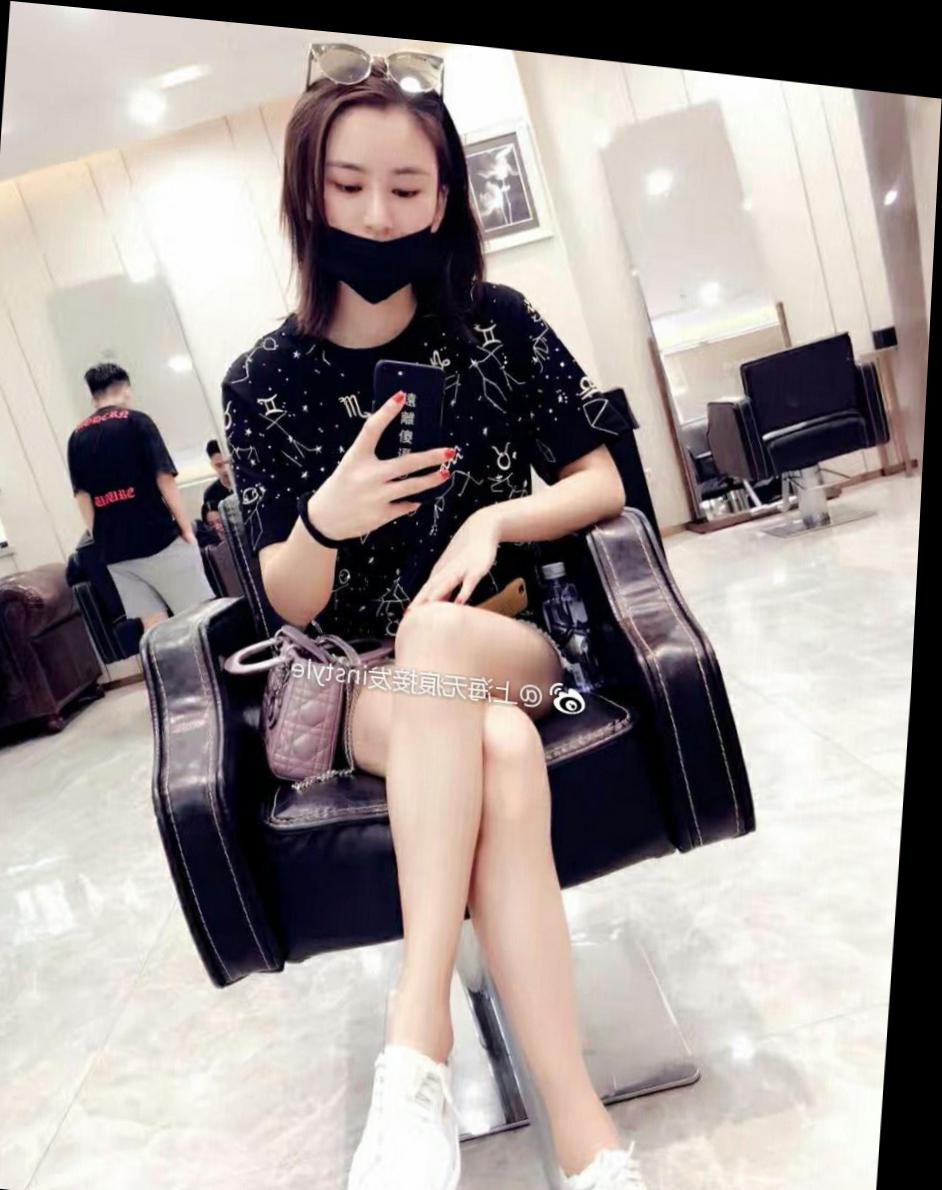WRONG: (315, 132, 447, 295)
